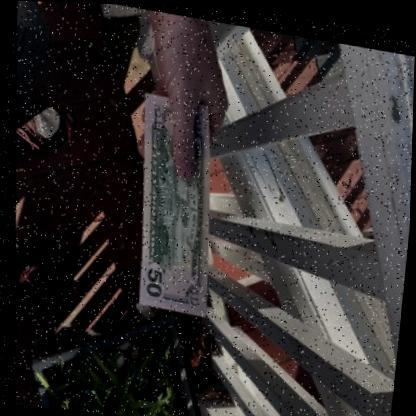dollar_back: (135, 89, 206, 312)
